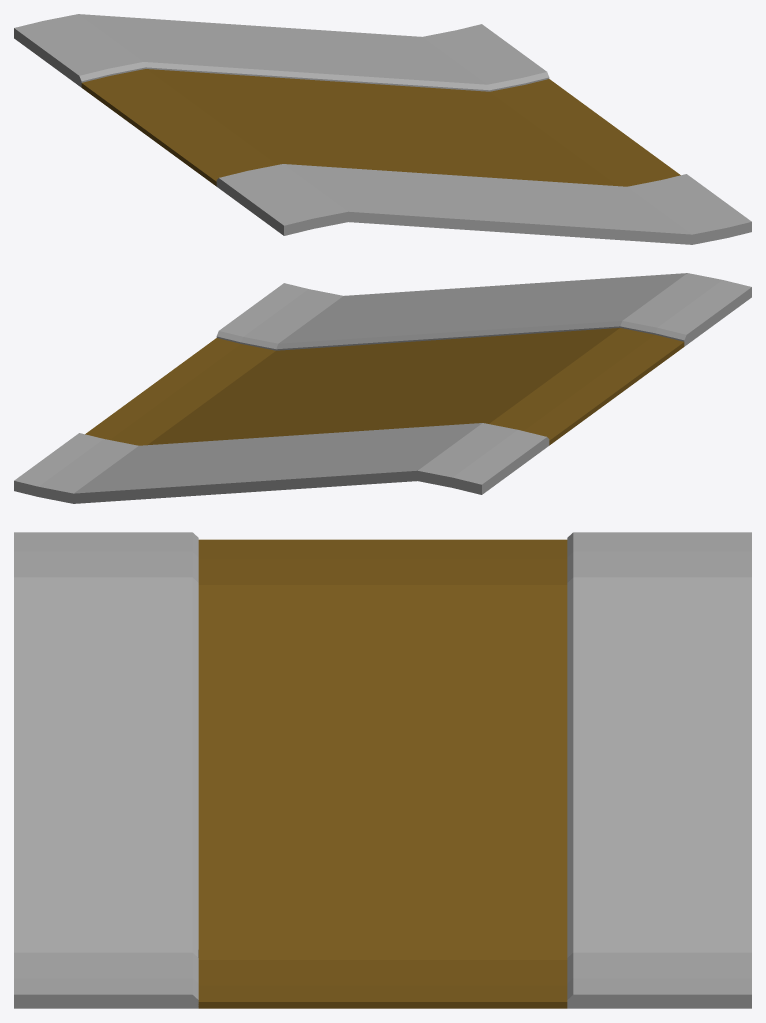
File: roadSlopeTallMuddy.fbx
3 views of the same model, one above another, from view 1: azimuth 30°, elevation 25°; view 2: azimuth 150°, elevation 25°; view 3: azimuth 270°, elevation 25° (orthographic). The views are drawn at different scales.
Parts seen in each view (by area): view 1: RoadSlopeTallMuddy; view 2: RoadSlopeTallMuddy; view 3: RoadSlopeTallMuddy.
Part boxes in pixels (x1,y1,x2,y2): RoadSlopeTallMuddy: (14, 14, 751, 244); RoadSlopeTallMuddy: (14, 273, 751, 503); RoadSlopeTallMuddy: (14, 532, 751, 1008).
Bounding box in the file's own units: 2000 × 492 × 2000.
